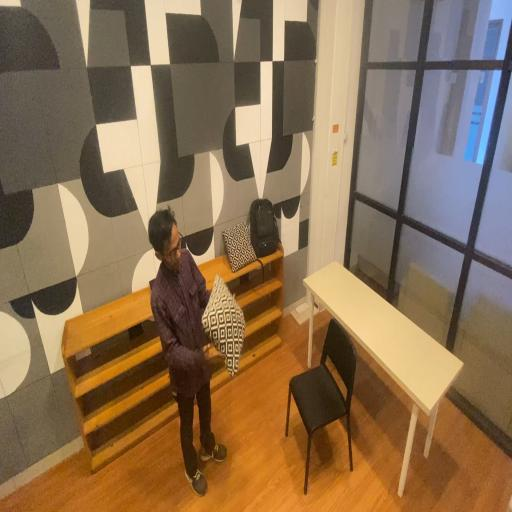bantal: (205, 272, 246, 382), (221, 217, 258, 280)
kursi: (284, 309, 358, 500)
lemari: (39, 261, 208, 469), (186, 235, 284, 400)
meja: (300, 254, 466, 507)
tas ransel: (248, 194, 283, 260)
